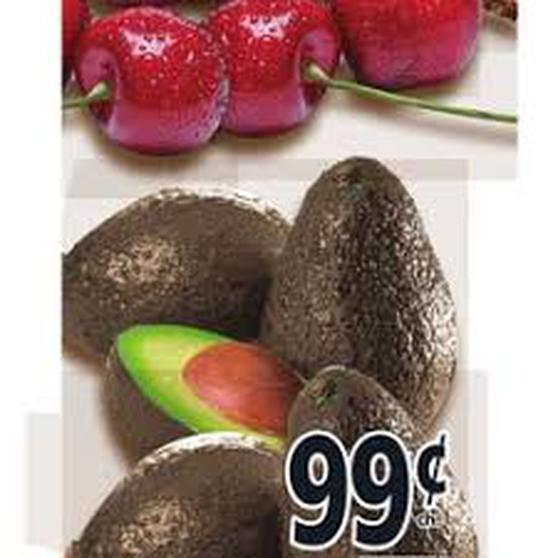avocado: (264, 156, 460, 443)
